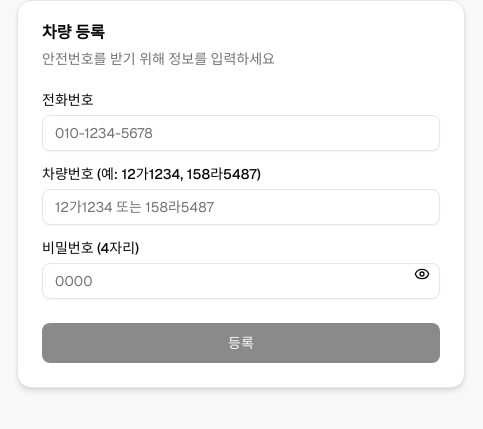
RegisterForm Component - Design-TAG-006 › should validate 4-digit password
First fill valid phone and vehicle
In the field labelled "전화번호": (241, 133) [42, 115, 440, 151], type "01012345678"
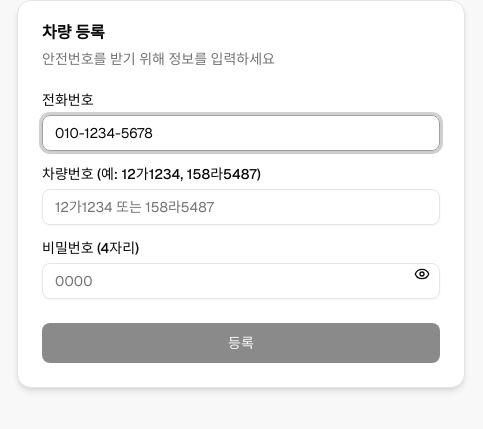
In the field labelled "차량번호 (예: 12가1234, 158라5487)": (241, 207) [42, 189, 440, 225], type "12가1234"
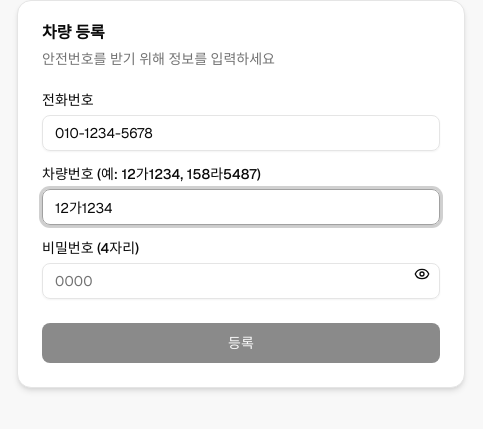
In the password field labelled "비밀번호 (4자리)": (241, 281) [42, 263, 440, 299], type "123"
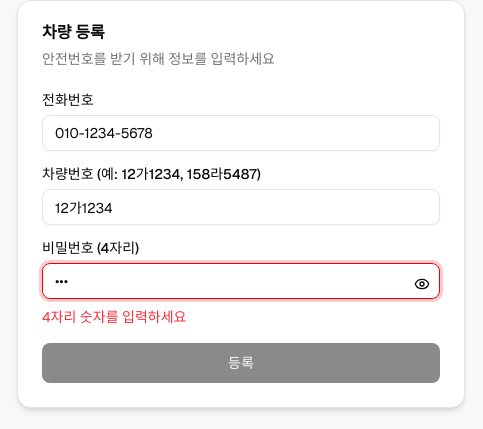
Expected: the button "등록" is disabled, [42, 343, 440, 383]
Type 4 digits (total becomes '1234')
In the password field labelled "비밀번호 (4자리)": (241, 281) [42, 263, 440, 299], type "4"
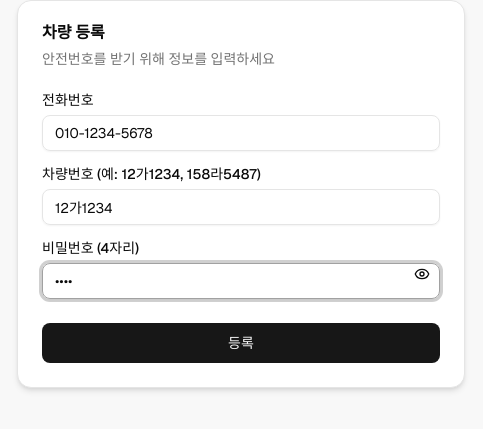
Now the button "등록" is enabled, box [42, 323, 440, 363]
